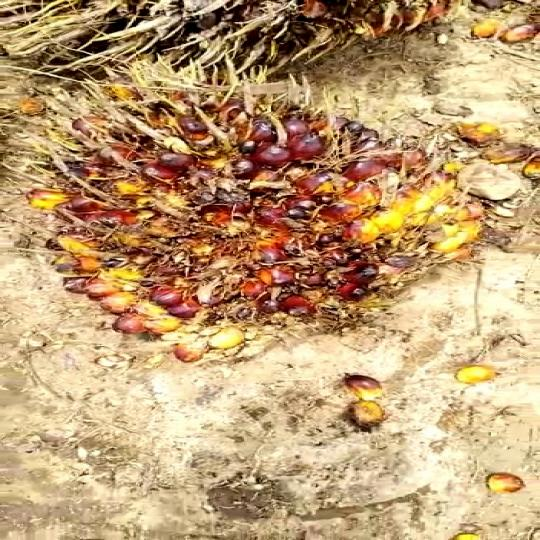masak: (16, 46, 508, 380)
